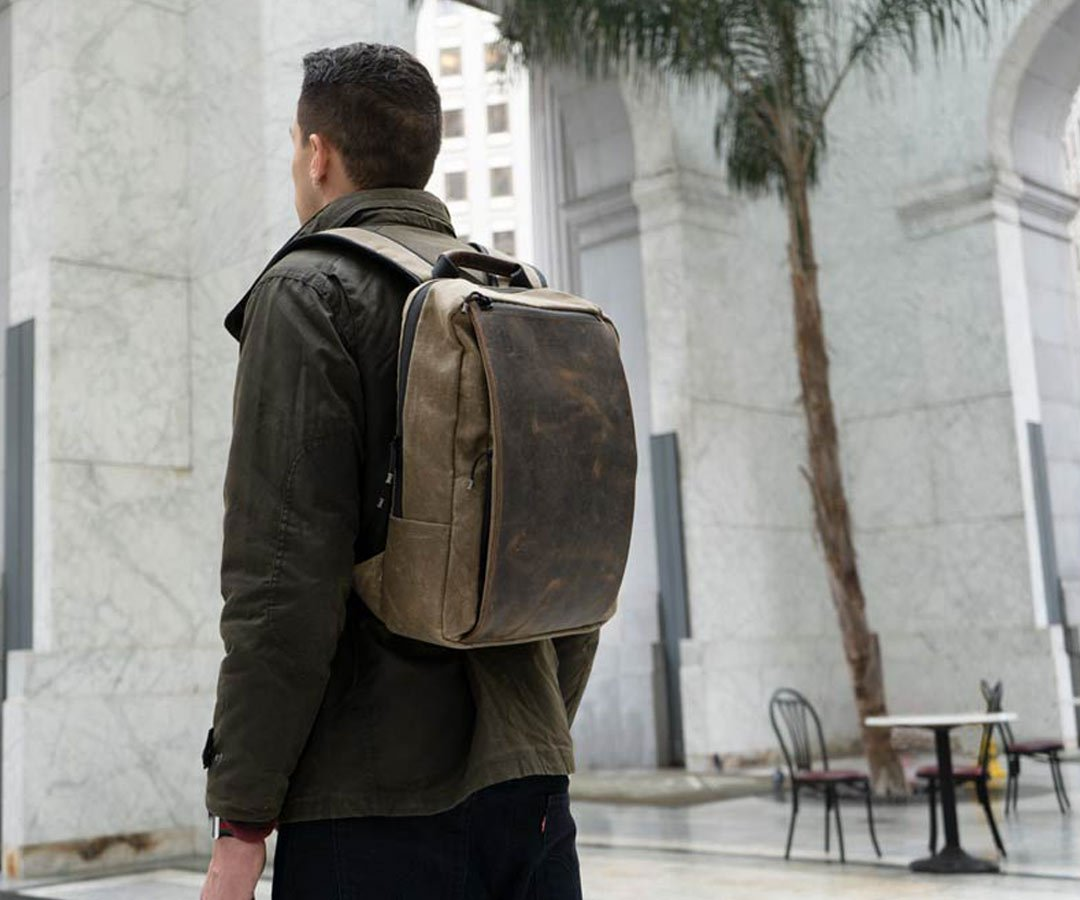backpack: (290, 225, 650, 658)
people: (195, 37, 610, 900)
